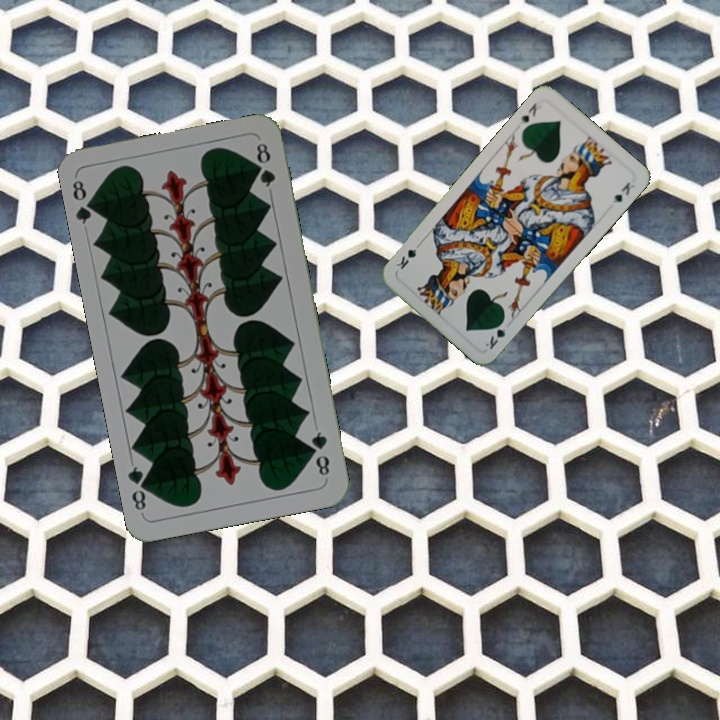G8: (68, 176, 100, 227), (307, 427, 333, 479)
GK: (480, 315, 513, 352), (515, 99, 539, 127)
